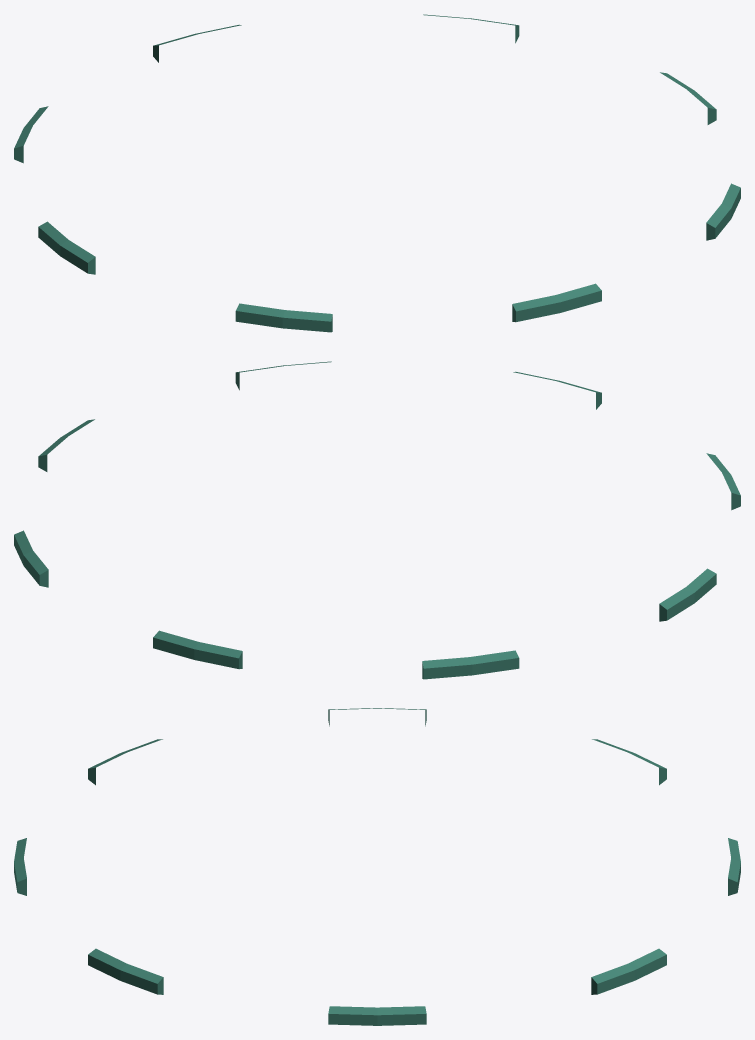
File: dome.trim_middle.copper.glb
3 views of the same model, one above another, from view 1: azimuth 30°, elevation 25°; view 2: azimuth 150°, elevation 25°; view 3: azimuth 270°, elevation 25° (orthographic).
Parts seen in each view (by area): view 1: dome_trim_middle_copper; view 2: dome_trim_middle_copper; view 3: dome_trim_middle_copper.
Boxes of the visible parts, left/top/right/bottom form: dome_trim_middle_copper: left=14, top=14, right=740, bottom=332; dome_trim_middle_copper: left=14, top=361, right=740, bottom=679; dome_trim_middle_copper: left=14, top=708, right=740, bottom=1025.
Size of what is drawn, in the model's own units: 7.4 by 0.2 by 7.4.
